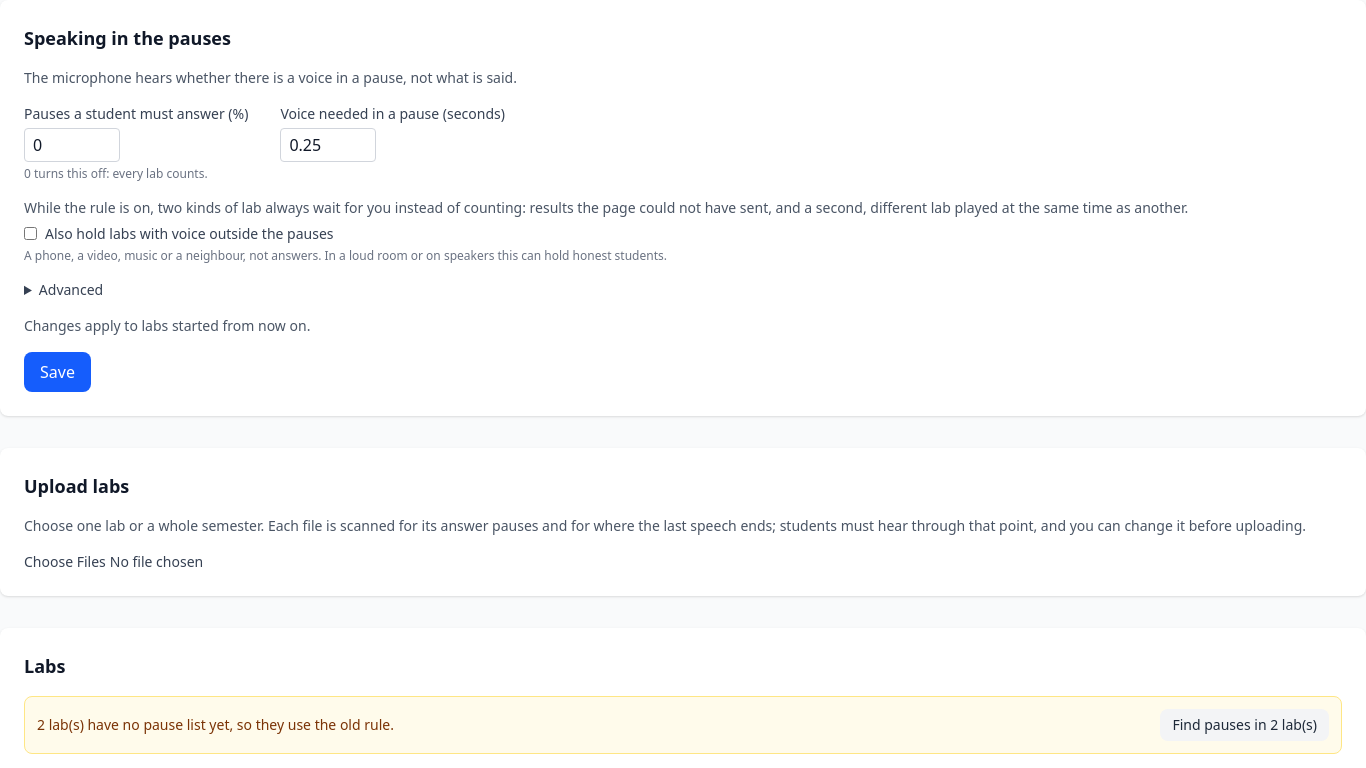
LabManager › long pauses ("write it down") › suggests the same after finding the pauses of a lab uploaded before, under its row
Click the button "Find pauses in 2 lab(s)" at (1245, 724), box [1160, 708, 1329, 740]
(page scrolled)
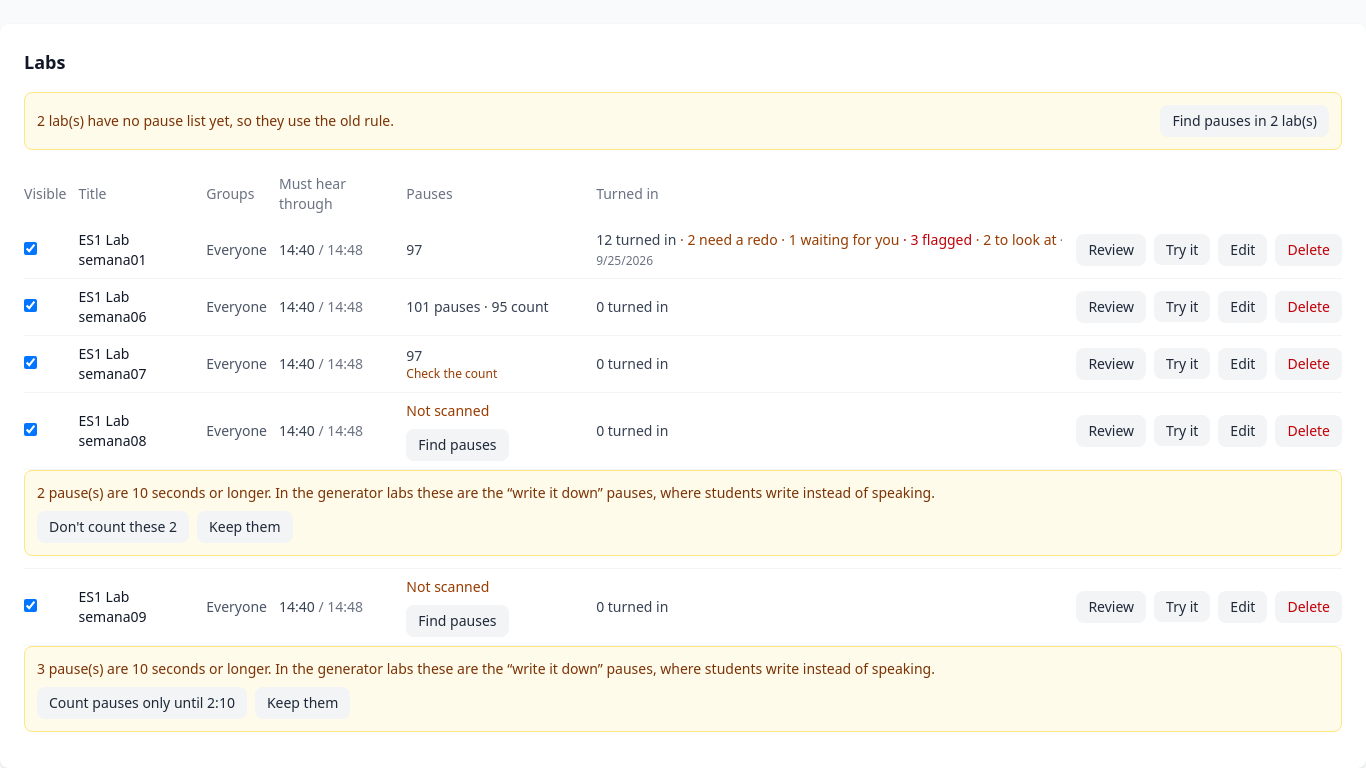
expect the button "Don't count these 2" is shown: met
expect the button "Count pauses only until 2:10" is shown: met, box [37, 686, 247, 718]
expect the 1st message shows "2 pause(s) are 10 seconds or longer.": met, box [37, 482, 935, 502]
Click the button "Don't count these 2" at (113, 526), box [37, 510, 189, 542]
(page scrolled)
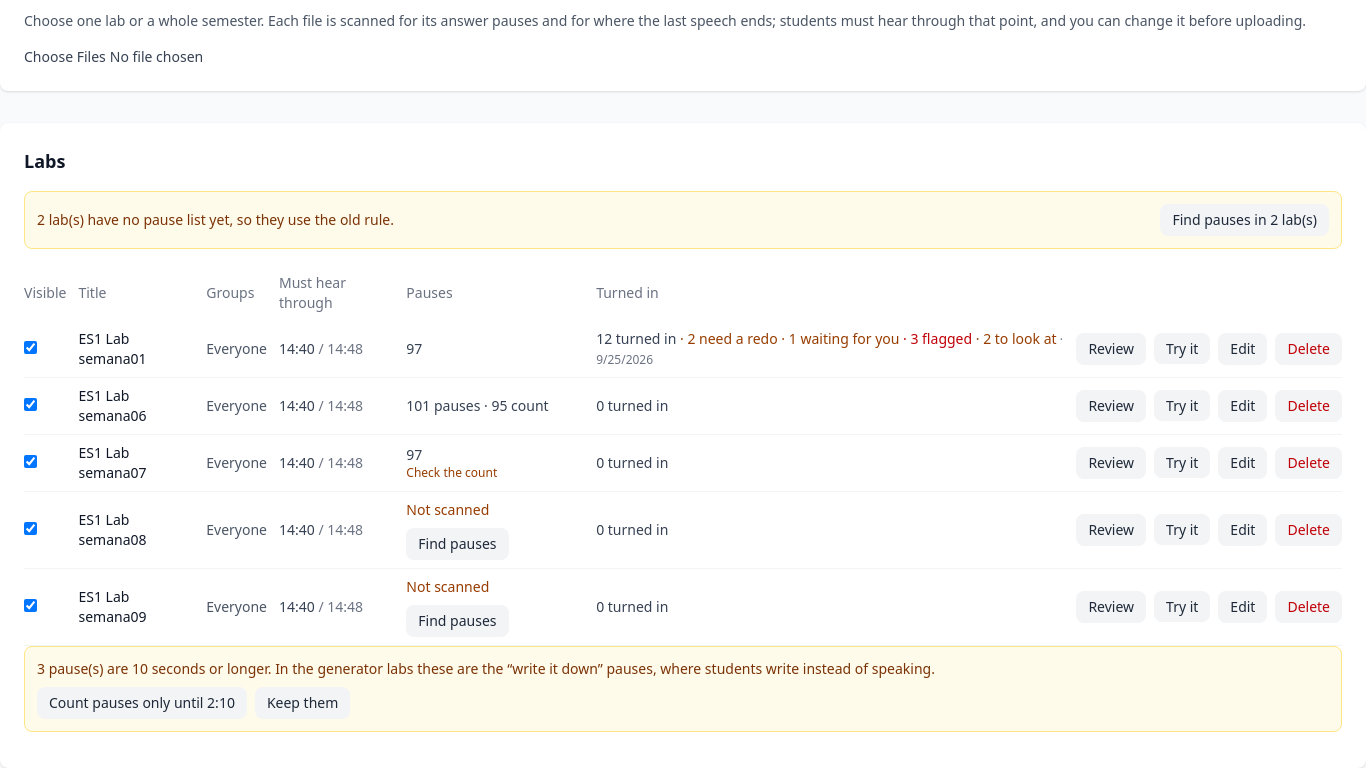
Click the button "Count pauses only until 2:10" at (142, 702), box [37, 686, 247, 718]
(page scrolled)
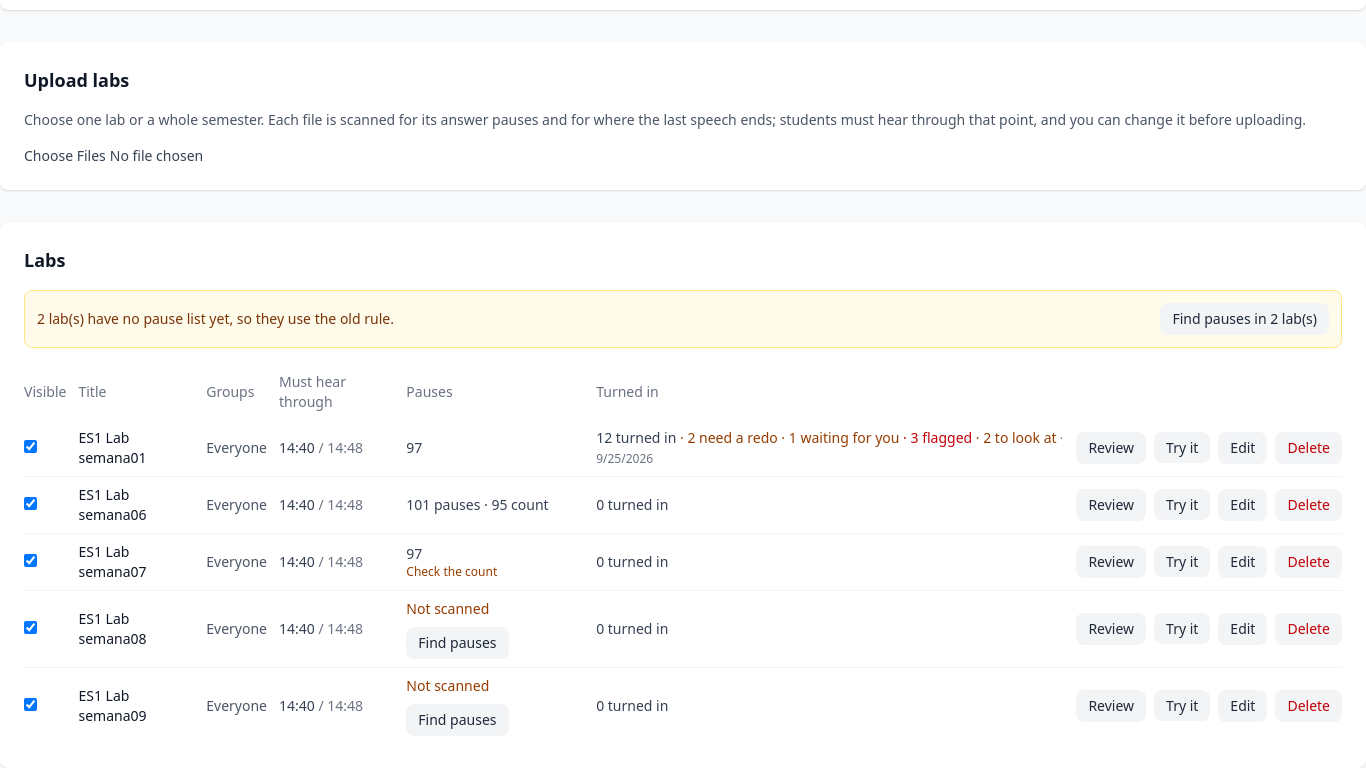
expect the text "10 seconds or longer" is gone: met
